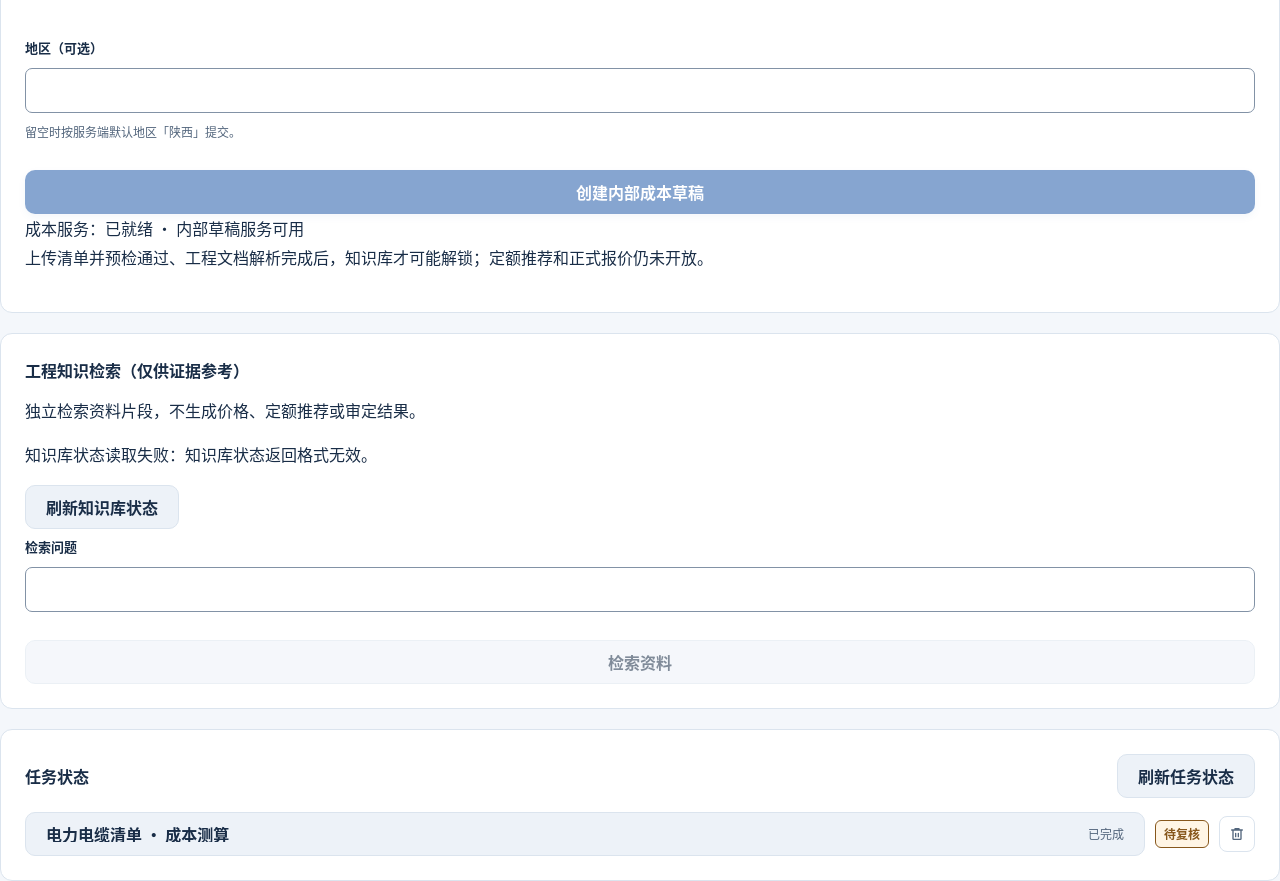
Test: EngineeringPendingPage › marks suspicious source audits for review and displays their health statistics
The width and height of the screenshot is (1280, 881).
(page scrolled)
Click the button "电力电缆清单 · 成本测算 已完成": (138, 834) [25,812,1145,856]
(page scrolled)
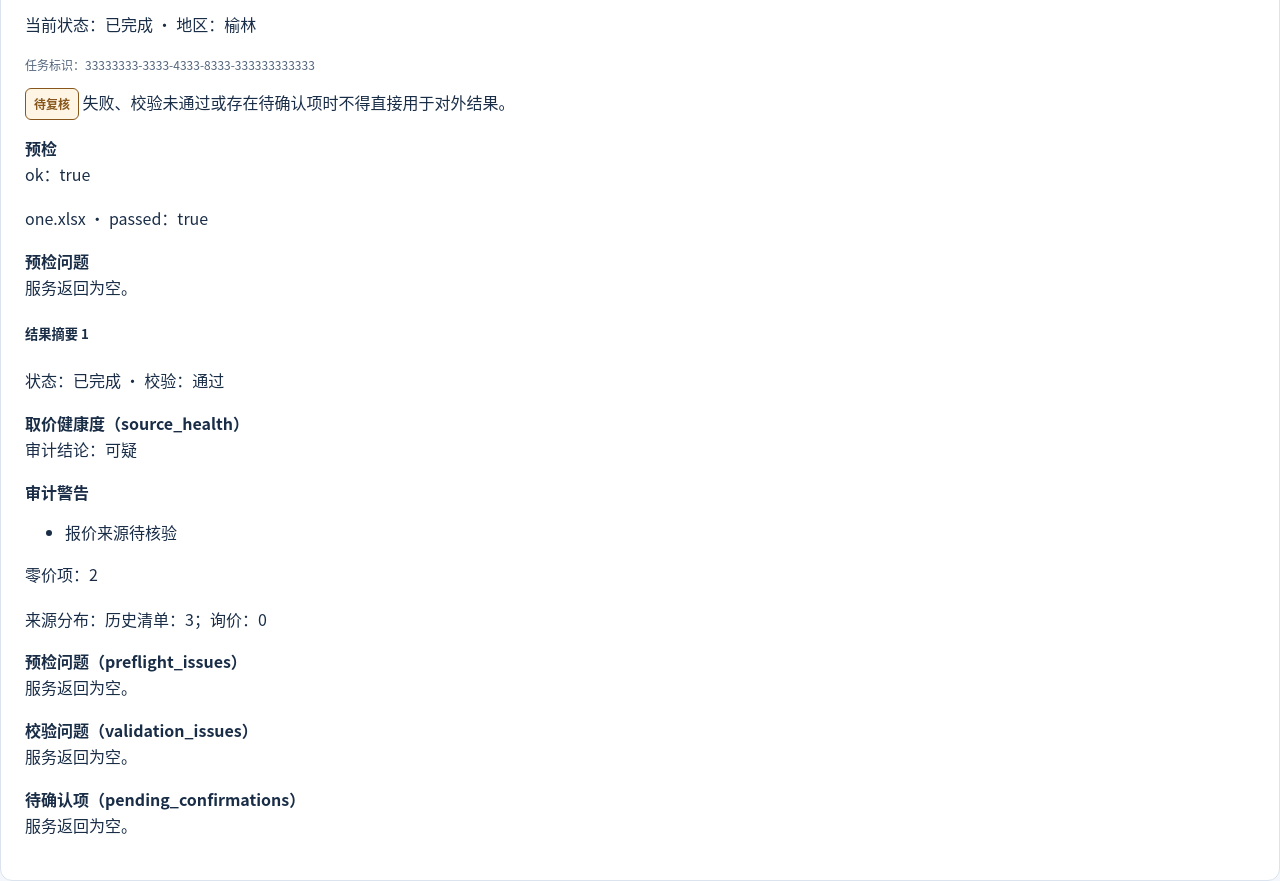
Result: the text "待复核" is shown 2 times
Result: the text "审计结论：可疑" is shown at [25,437,137,461]
Result: the list item "报价来源待核验" is shown at [65,520,177,544]
